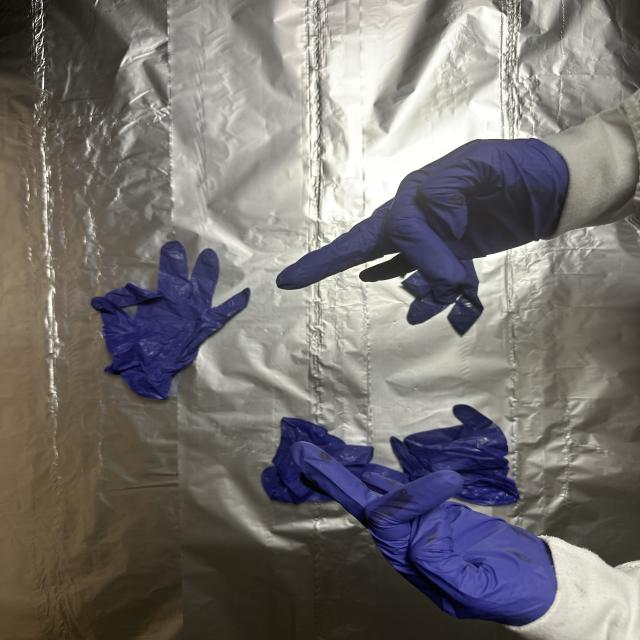gloves_contaminated: (276, 139, 568, 324), (368, 501, 556, 625)
